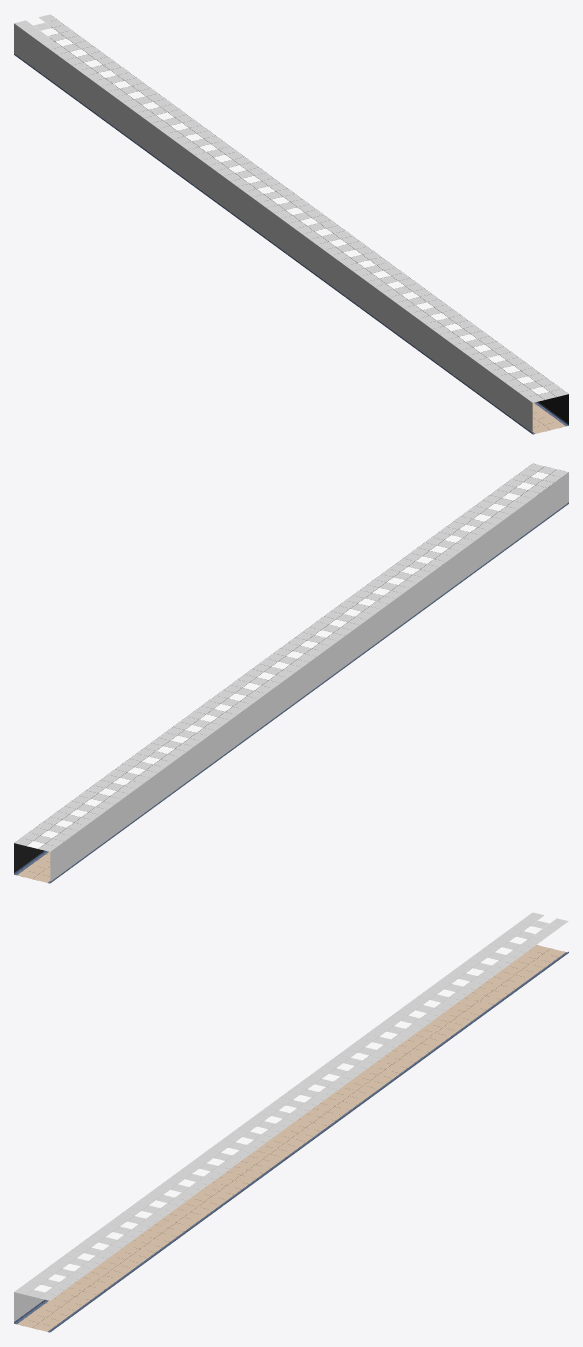
Rendered from ground.glb.
3 renders of one model, top to bottom at view 1: azimuth 30°, elevation 25°; view 2: azimuth 150°, elevation 25°; view 3: azimuth 330°, elevation 25°, orthographic.
Visible parts, largest first — view 1: Cube.002; view 2: Cube.002; view 3: Cube.002.
Boxes of the visible parts, x1,y1,x2,y2 form: Cube.002: (14, 14, 568, 434); Cube.002: (14, 463, 568, 883); Cube.002: (14, 912, 568, 1332).
Bounding box in the file's own units: 2.9 × 2.42 × 72.
